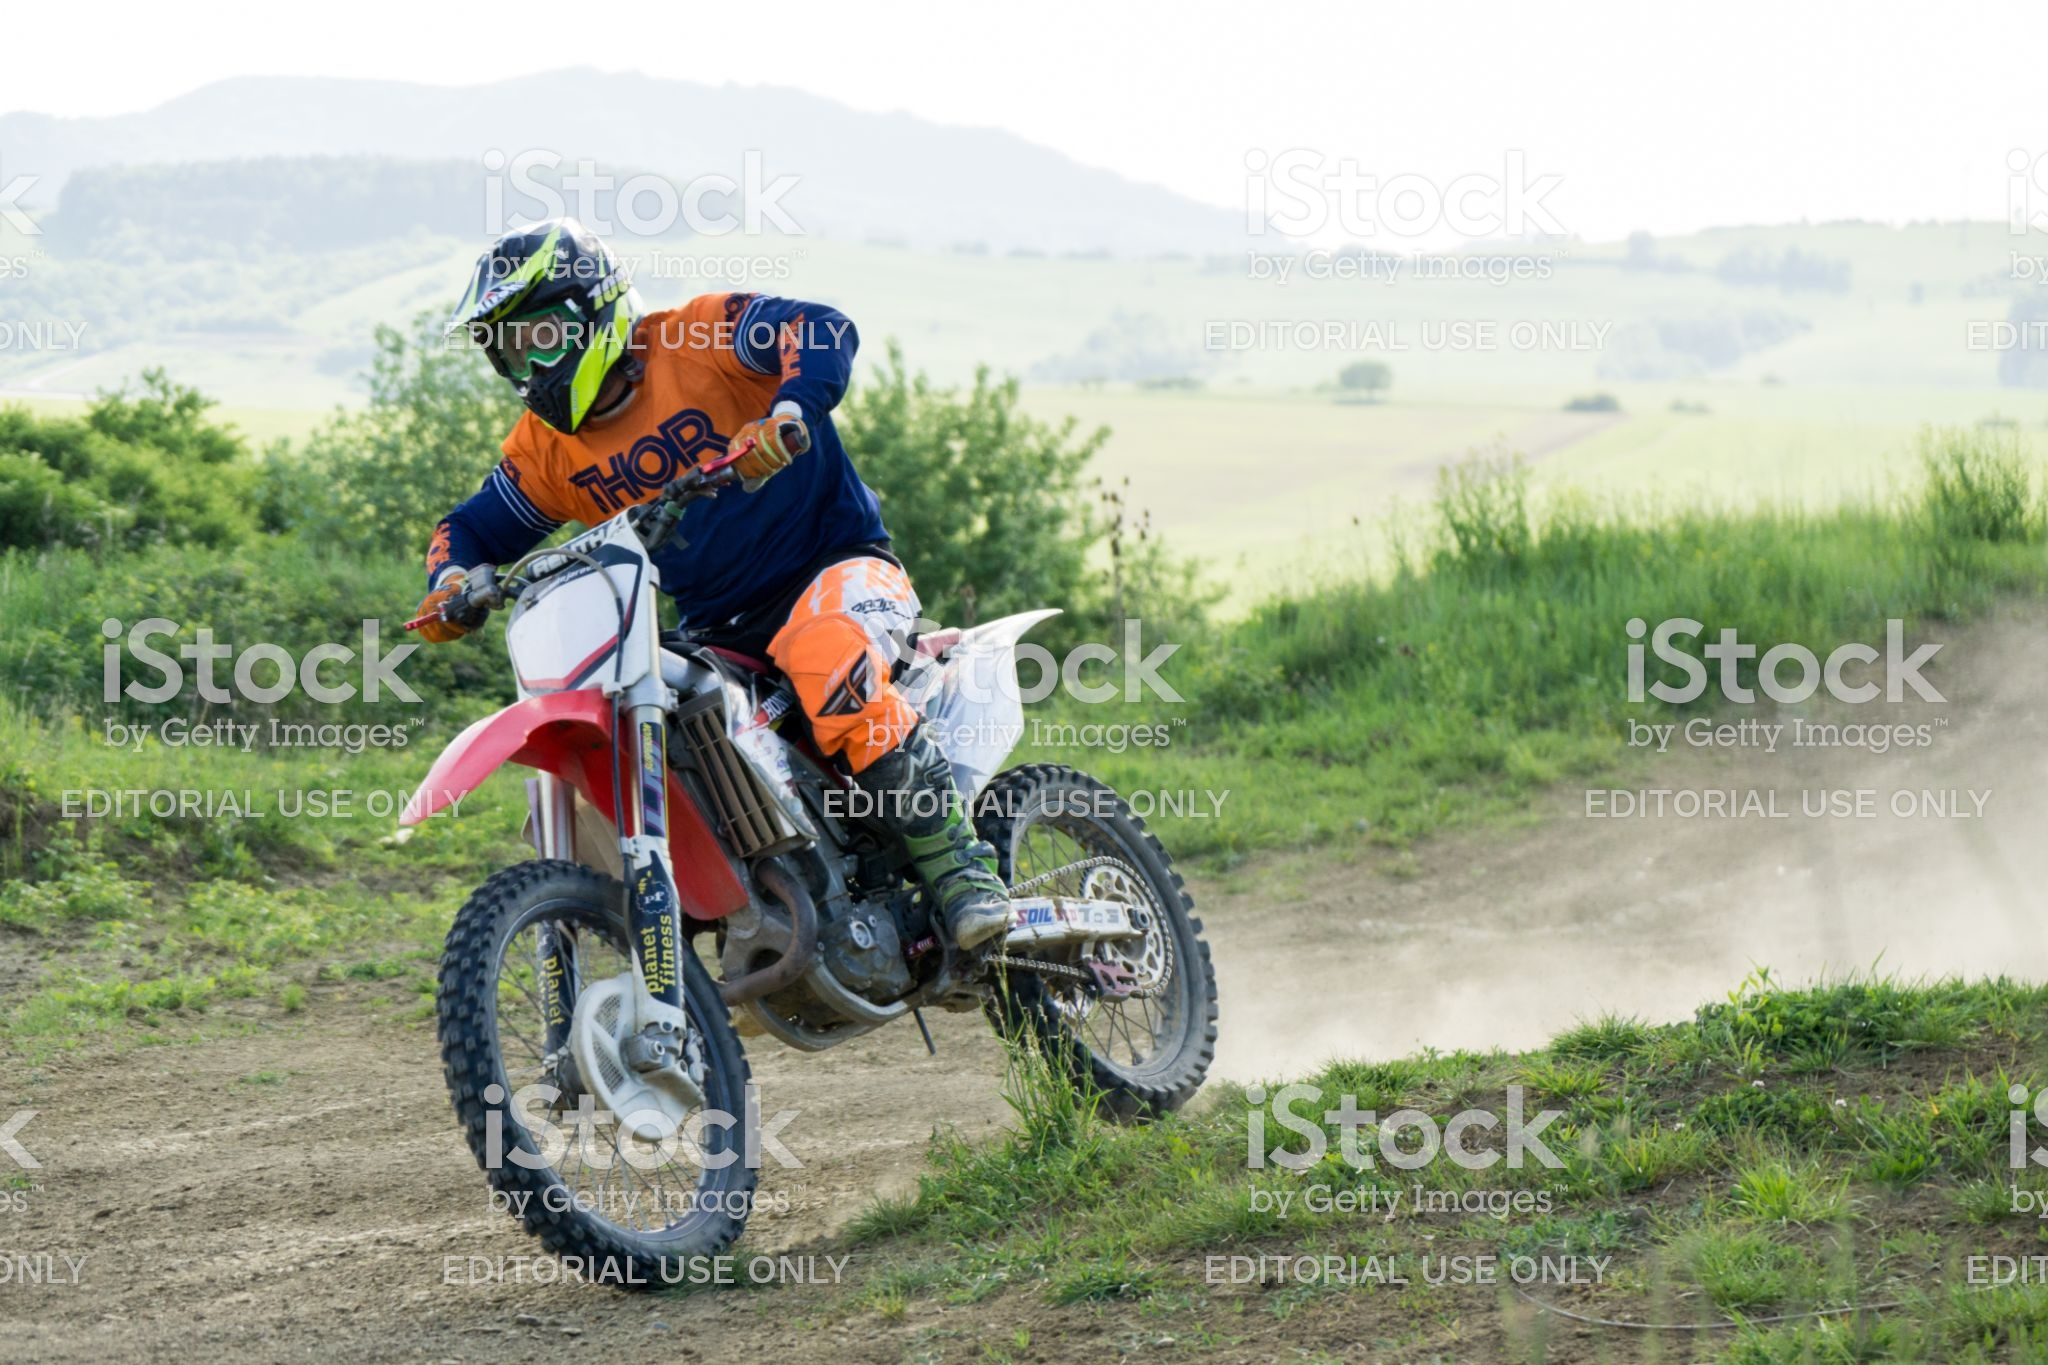helmet: (464, 238, 652, 419)
